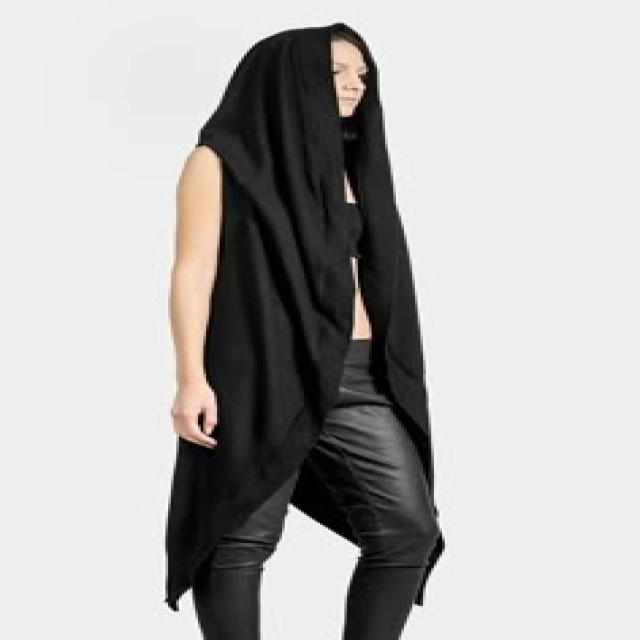4_capucha: (198, 22, 388, 143)
